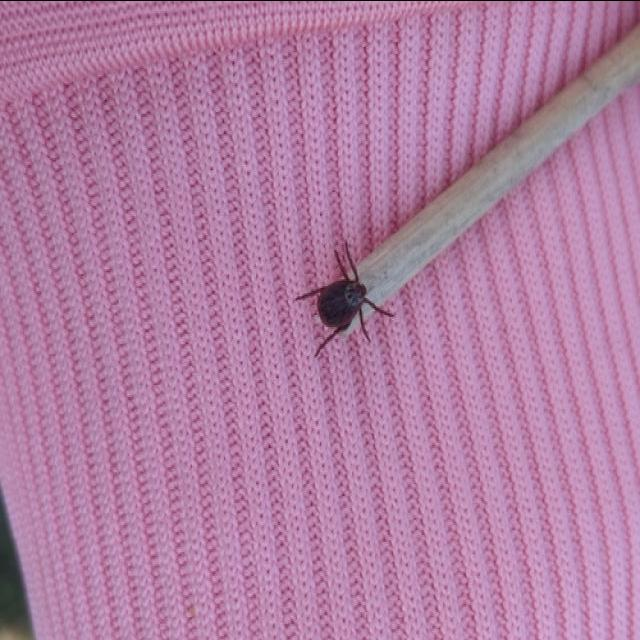Dermacentor Reticulatus-F: (310, 239, 394, 341)
